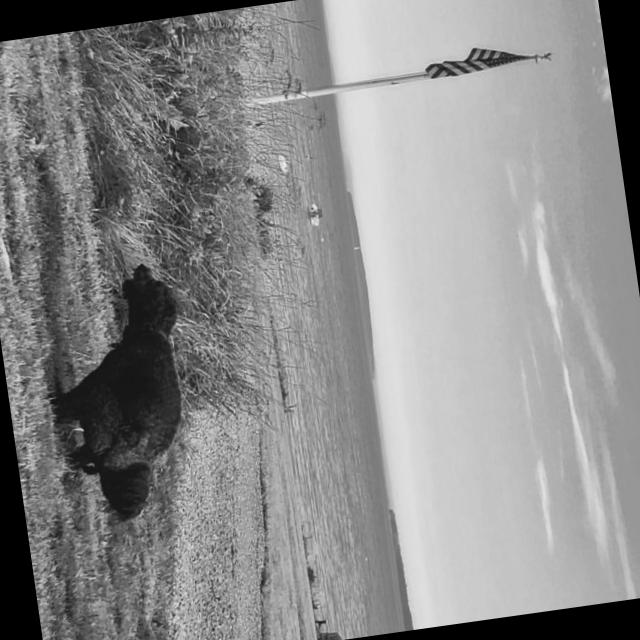squatting: (27, 258, 214, 541)
